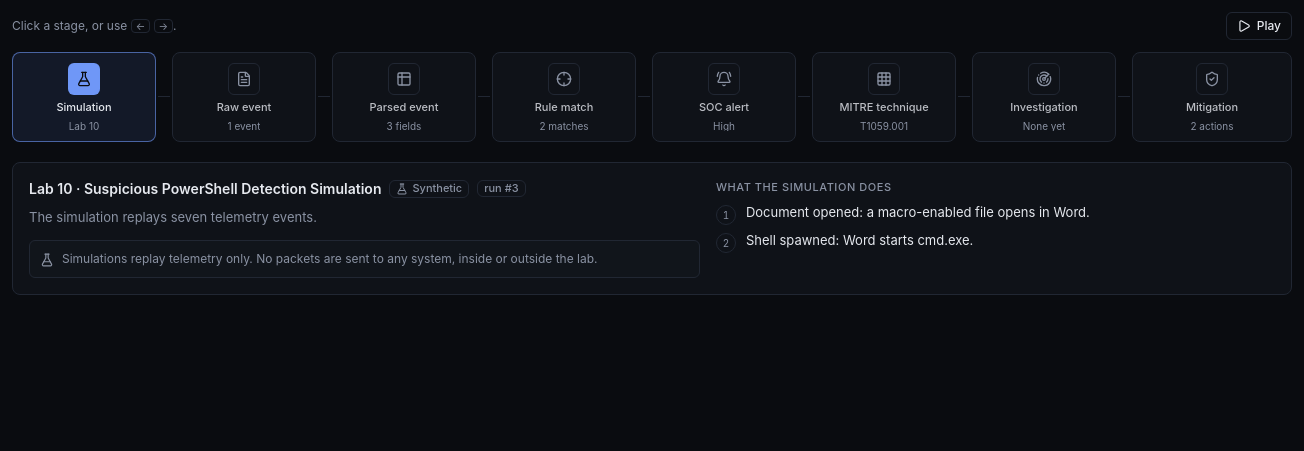
Test: LifecycleFlow › walks through MITRE, investigation and mitigation
Click the tab "MITRE technique T1059.001".
click(884, 97)  # box x1=812 y1=52 x2=956 y2=142
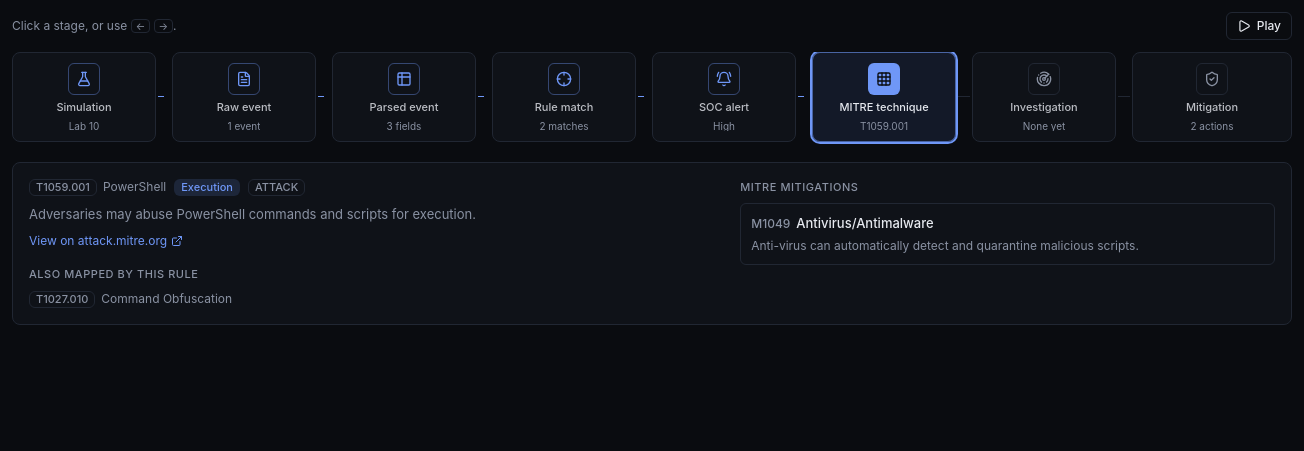
Result: the text "Execution" is shown at x1=174 y1=179 x2=240 y2=196
Result: the text "Antivirus/Antimalware" is shown at x1=796 y1=215 x2=934 y2=231
Click the tab "Investigation None yet".
click(1044, 97)  # box x1=972 y1=52 x2=1116 y2=142
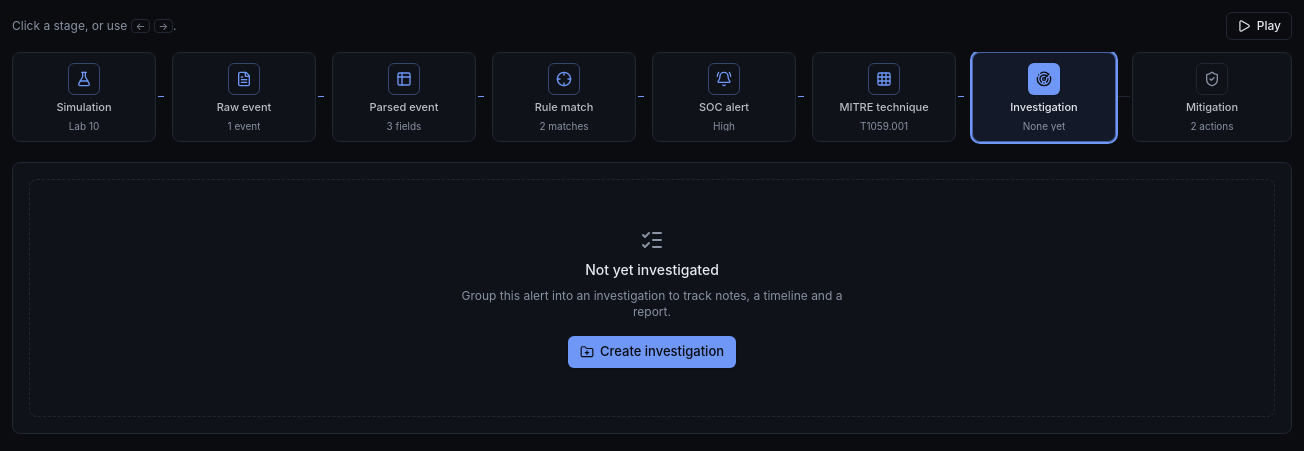
Result: the text "Not yet investigated" is shown at x1=585 y1=260 x2=719 y2=280
Result: the button "Create investigation" is shown at x1=568 y1=336 x2=736 y2=368
Click the tab "Mitigation 2 actions".
click(1212, 97)  # box x1=1132 y1=52 x2=1292 y2=142
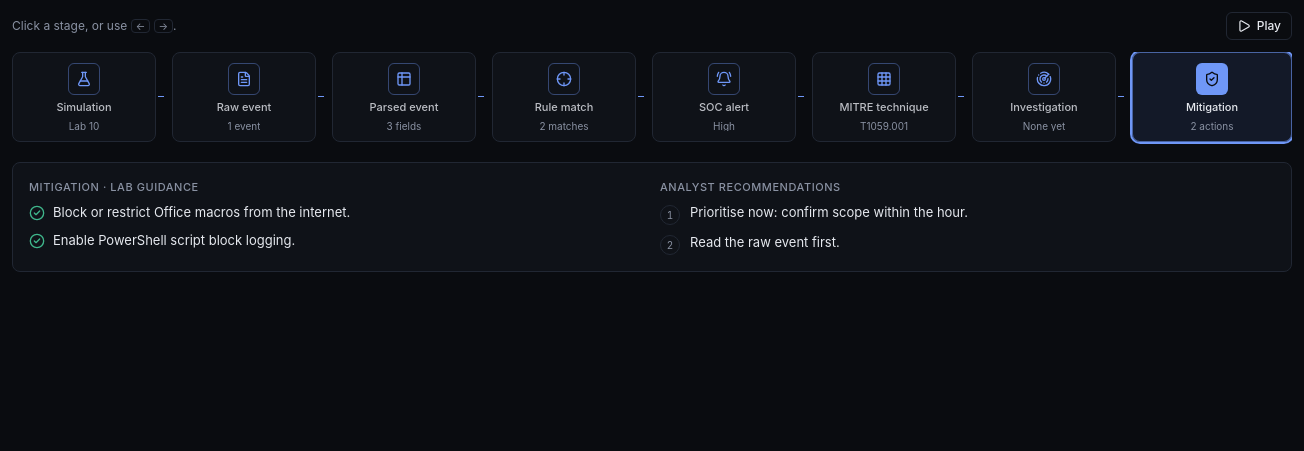
Result: the text "Block or restrict Office macros from the internet." is shown at x1=53 y1=203 x2=350 y2=223
Result: the heading "Mitigation · Lab guidance" is shown at x1=29 y1=180 x2=199 y2=194
